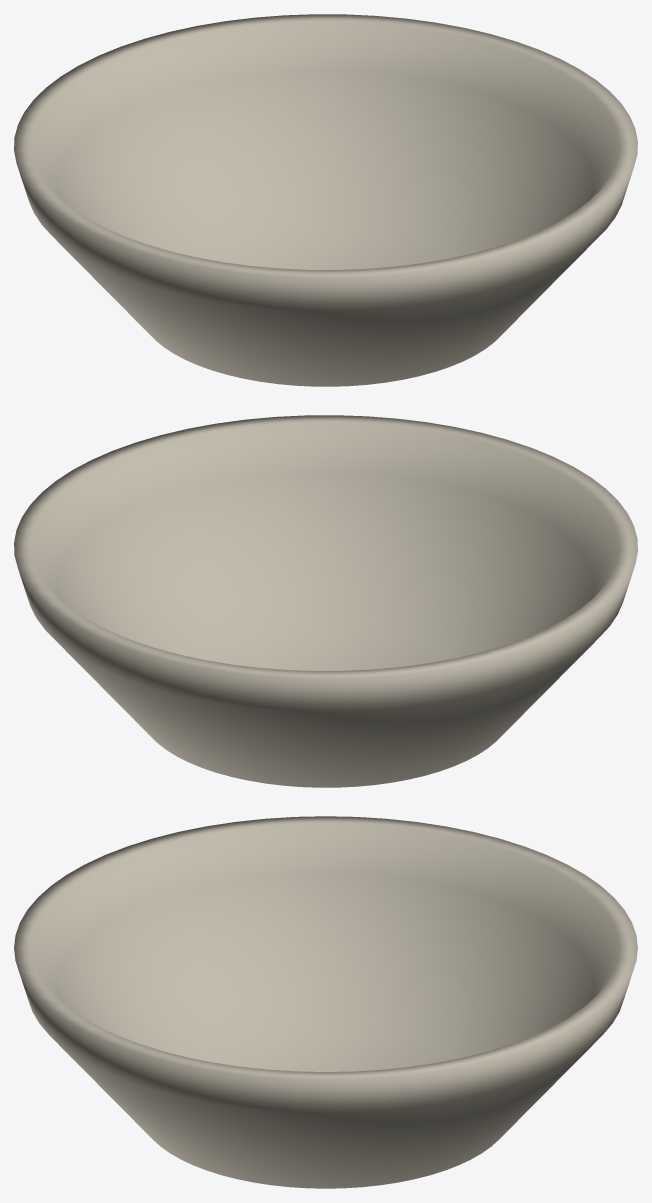
Rendered from scandinavian.bowl.gltf.
3 views of the same model, one above another, from view 1: azimuth 30°, elevation 25°; view 2: azimuth 150°, elevation 25°; view 3: azimuth 270°, elevation 25° (orthographic).
Visible parts, largest first — view 1: scandinavian.bowl.stoneware; view 2: scandinavian.bowl.stoneware; view 3: scandinavian.bowl.stoneware.
Boxes of the visible parts, <box> form: scandinavian.bowl.stoneware: <box>14,14,637,386</box>; scandinavian.bowl.stoneware: <box>14,415,637,787</box>; scandinavian.bowl.stoneware: <box>14,816,637,1188</box>.
Size of the model in its own units: 0.29 by 0.09 by 0.29.
